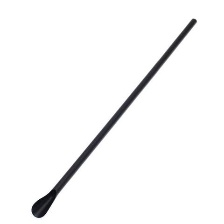drinking_straw: (24, 13, 202, 221)
